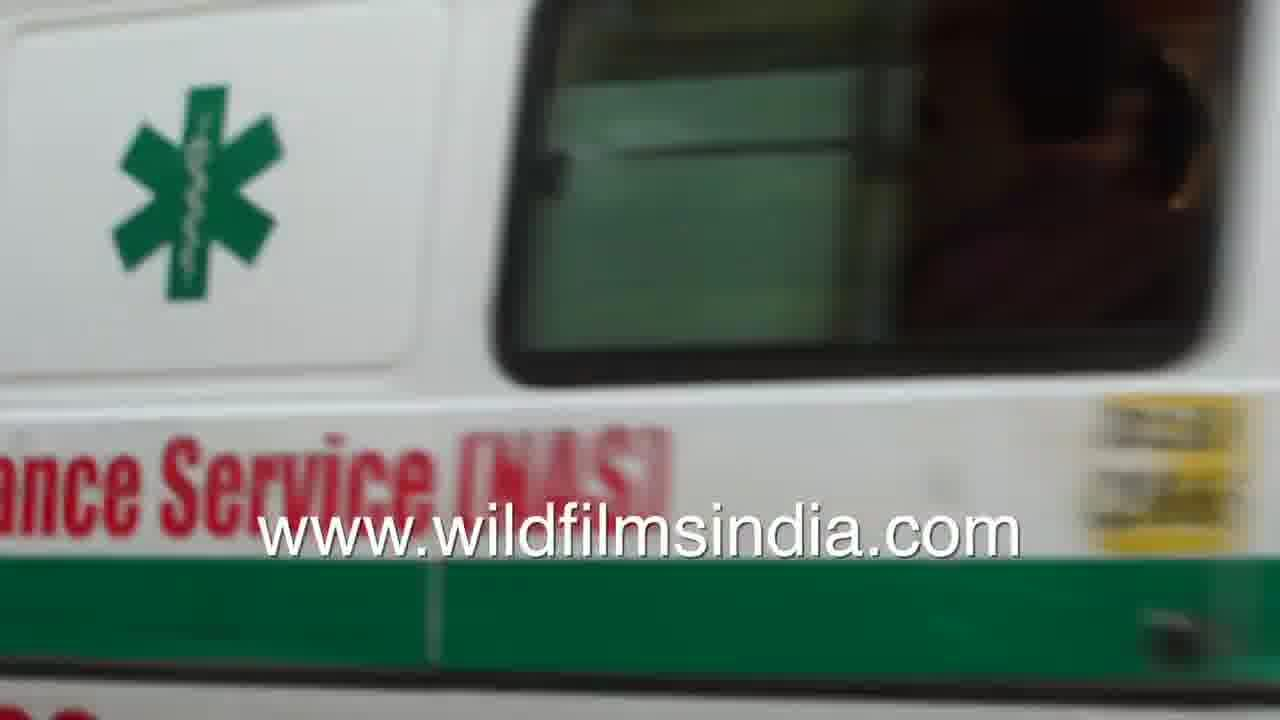AMBULANCE: (21, 56, 1265, 498), (0, 581, 1280, 720)
